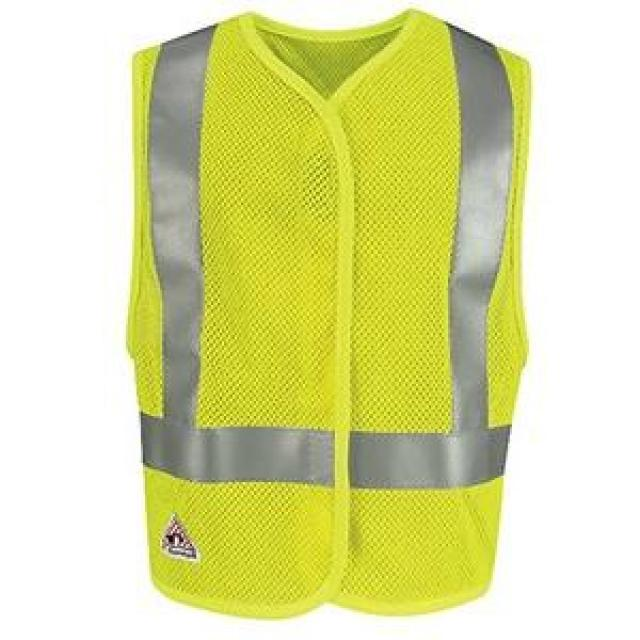Reflective-Jacket: (60, 0, 567, 640)
